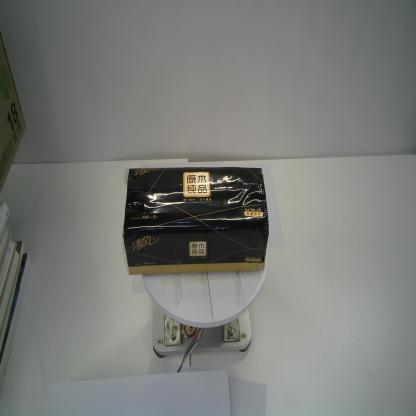Tissue: (121, 164, 271, 276)
